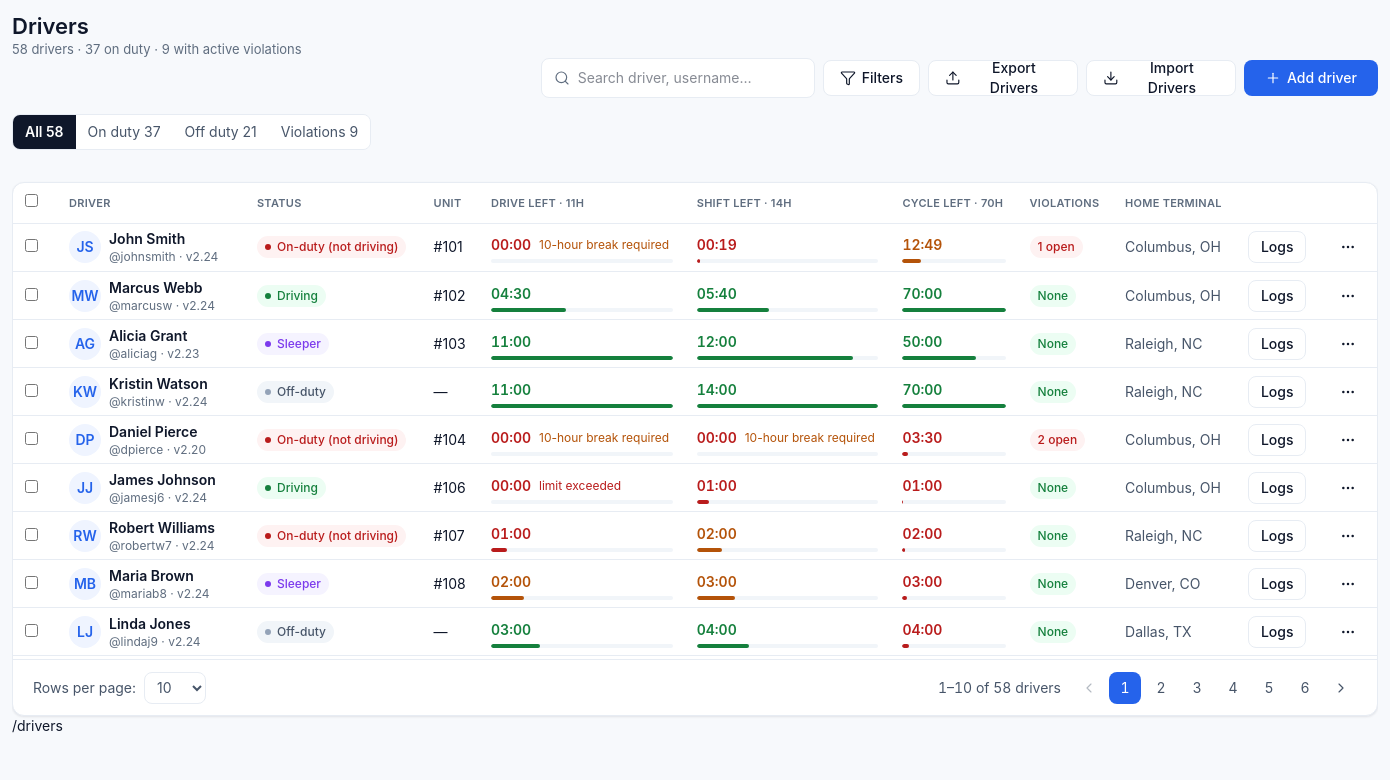
Test: W-06 Drivers › FE-003: fast typing keeps every character and sends one debounced roster request
Expected: the text "John Smith" is shown, [109, 230, 185, 247]
Type "webb" into the field named "Search drivers" at (690, 78), box [578, 68, 802, 88]
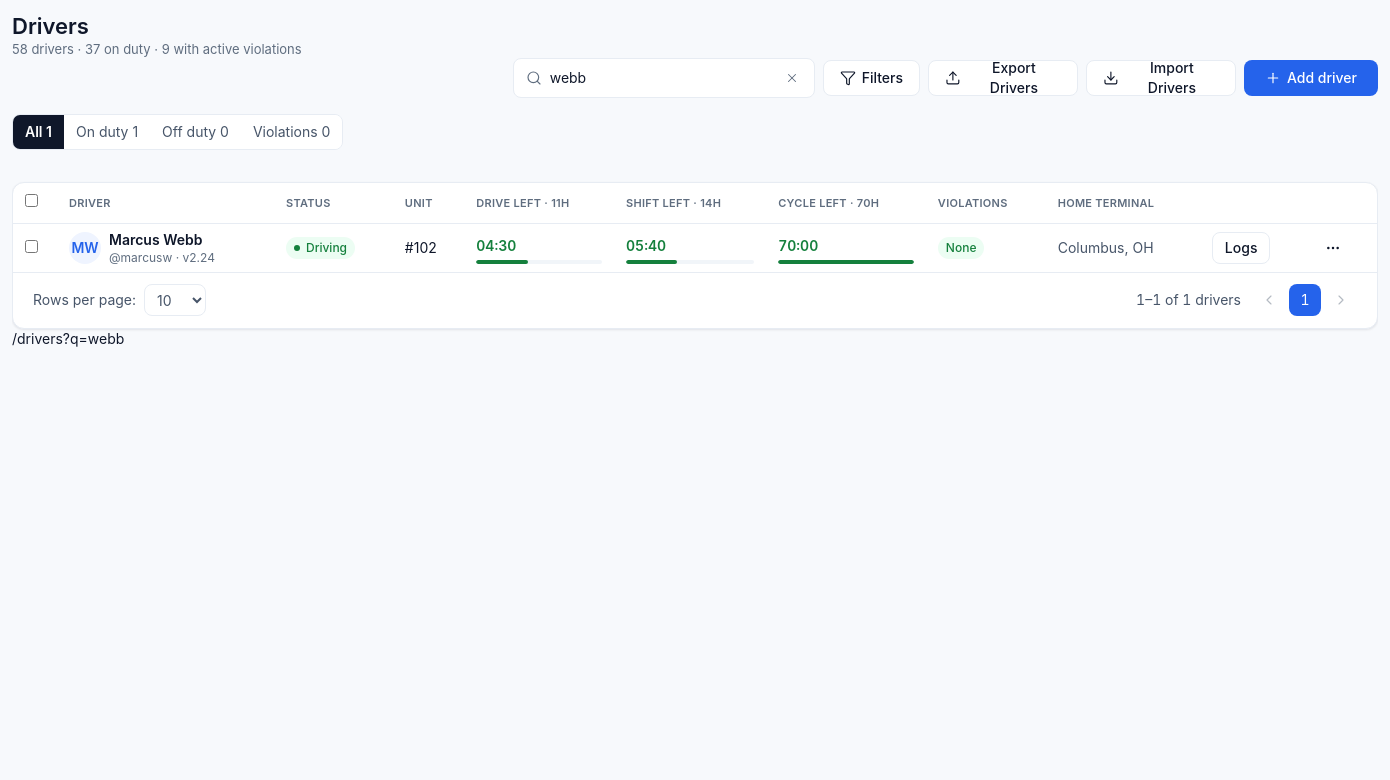
Expected: the text "Marcus Webb" is shown, [109, 230, 215, 250]
Expected: the text with test id "location" reads "/drivers?q=webb", [12, 330, 124, 346]
